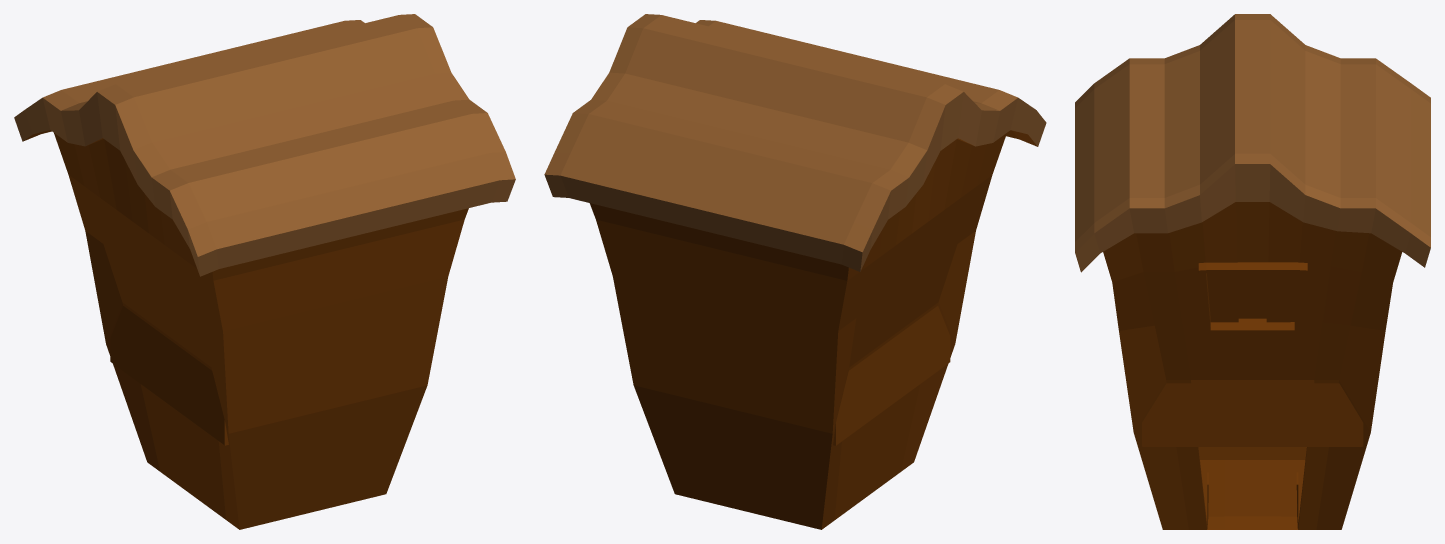
Rendered from Barn_Only.fbx.
The picture shows the model from 3 angles, left to right: view 1: azimuth 30°, elevation 25°; view 2: azimuth 150°, elevation 25°; view 3: azimuth 270°, elevation 25°; orthographic projection. The views are drawn at different scales.
Parts seen in each view (by area): view 1: Barn; view 2: Barn; view 3: Barn.
Part boxes in pixels (x1,y1,x2,y2): Barn: (14, 14, 515, 529); Barn: (544, 14, 1046, 529); Barn: (1075, 14, 1430, 529).
Size of the model in its own units: 321 by 407 by 322.
